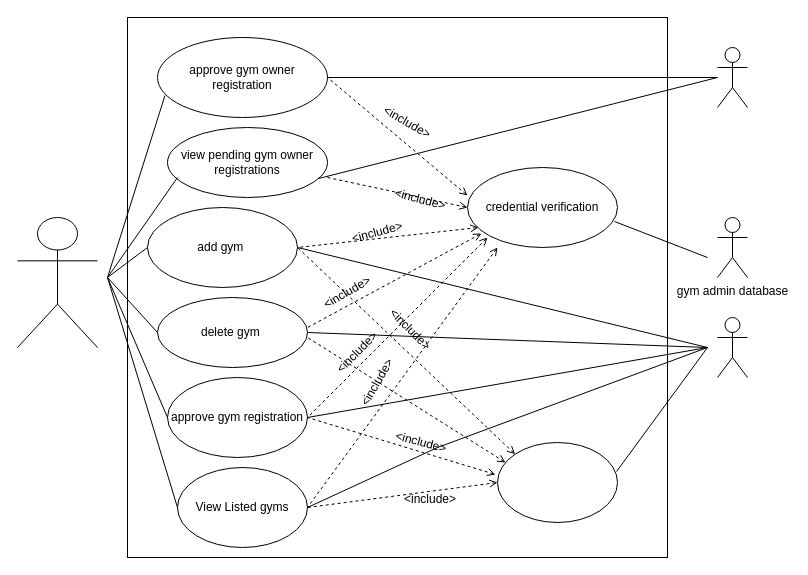
Some shapes in this 808 by 575 pixel diagram are drawn without their labels. Here are the shapes that lost their labels. From the top down, the centre of each, then its label:
At pixel 732 77: "gym owners database".
At pixel 57 282: "gym admin".
At pixel 732 347: "gym details database".
At pixel 557 482: "get gym details".
